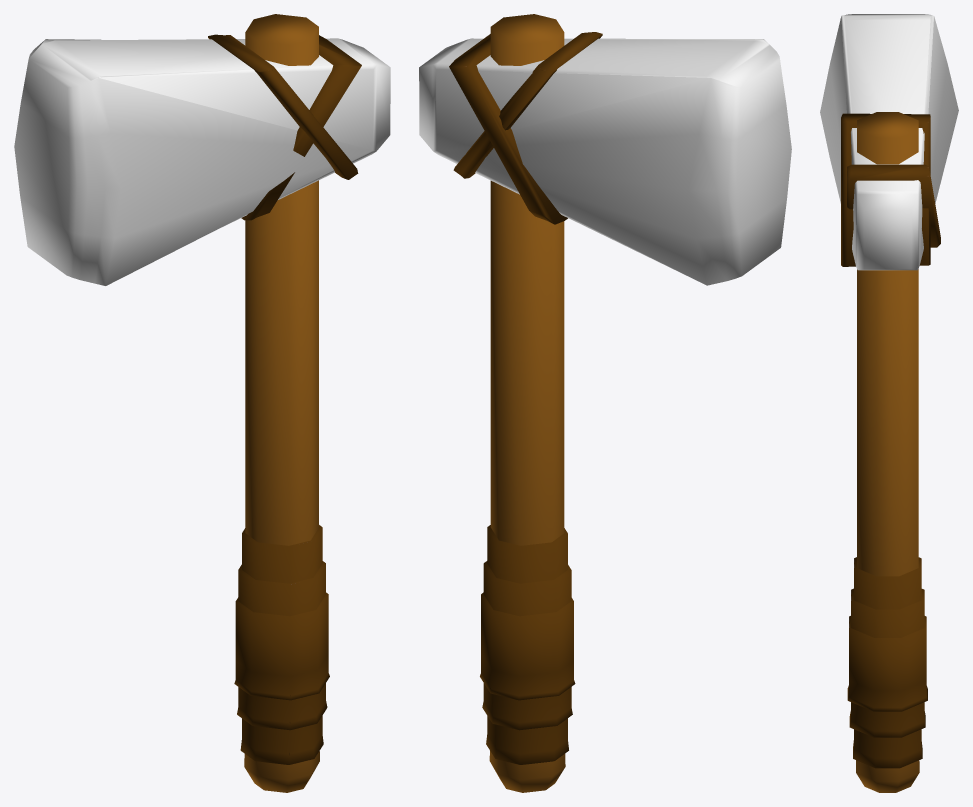
Rendered from hammer_primitive.fbx.
3 renders of one model, left to right at view 1: azimuth 30°, elevation 25°; view 2: azimuth 150°, elevation 25°; view 3: azimuth 270°, elevation 25°, orthographic. The views are drawn at different scales.
Visible parts, largest first — view 1: Cube; view 2: Cube; view 3: Cube.
Boxes of the visible parts, left/top/right/bottom form: Cube: left=14, top=14, right=390, bottom=792; Cube: left=419, top=14, right=791, bottom=792; Cube: left=820, top=14, right=958, bottom=792.
Size of the model in its own units: 44.96 by 99.68 by 18.52.
Materials: 1 (1 with a texture image).
